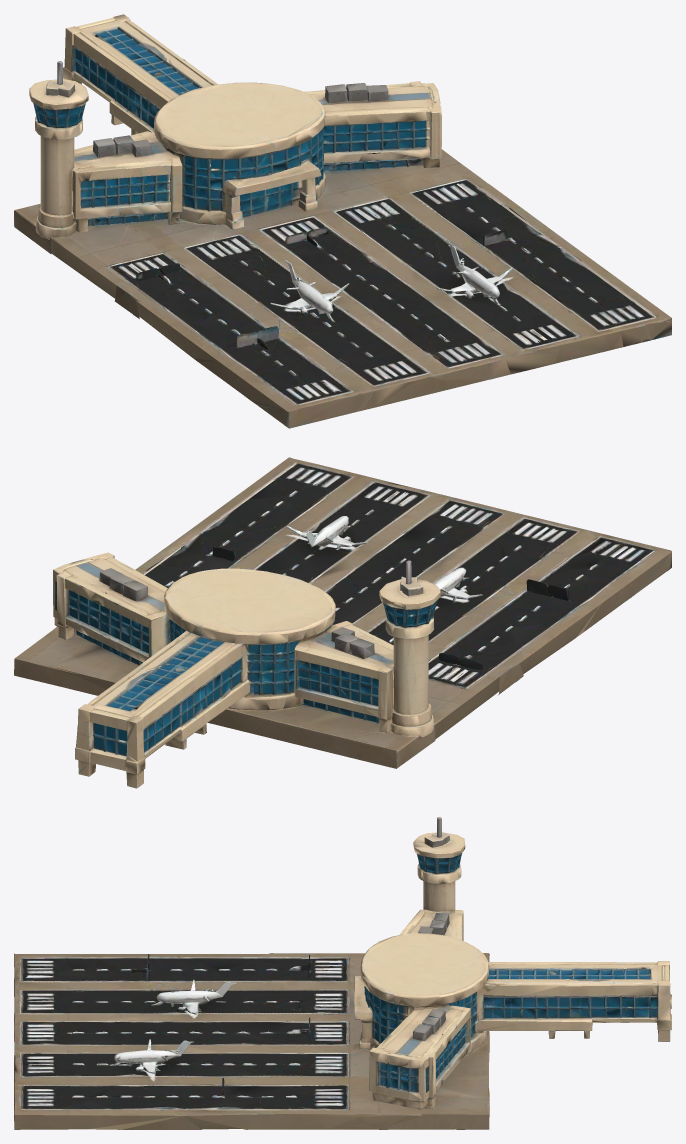
The model's file is upm_mv3pq1o910w.glb.
The picture shows the model from 3 angles, top to bottom: view 1: azimuth 30°, elevation 25°; view 2: azimuth 150°, elevation 25°; view 3: azimuth 270°, elevation 25°; orthographic projection. The views are drawn at different scales.
Size of the model in its own units: 1.13 by 0.5038 by 1.9.
1 material, 1 textured.
